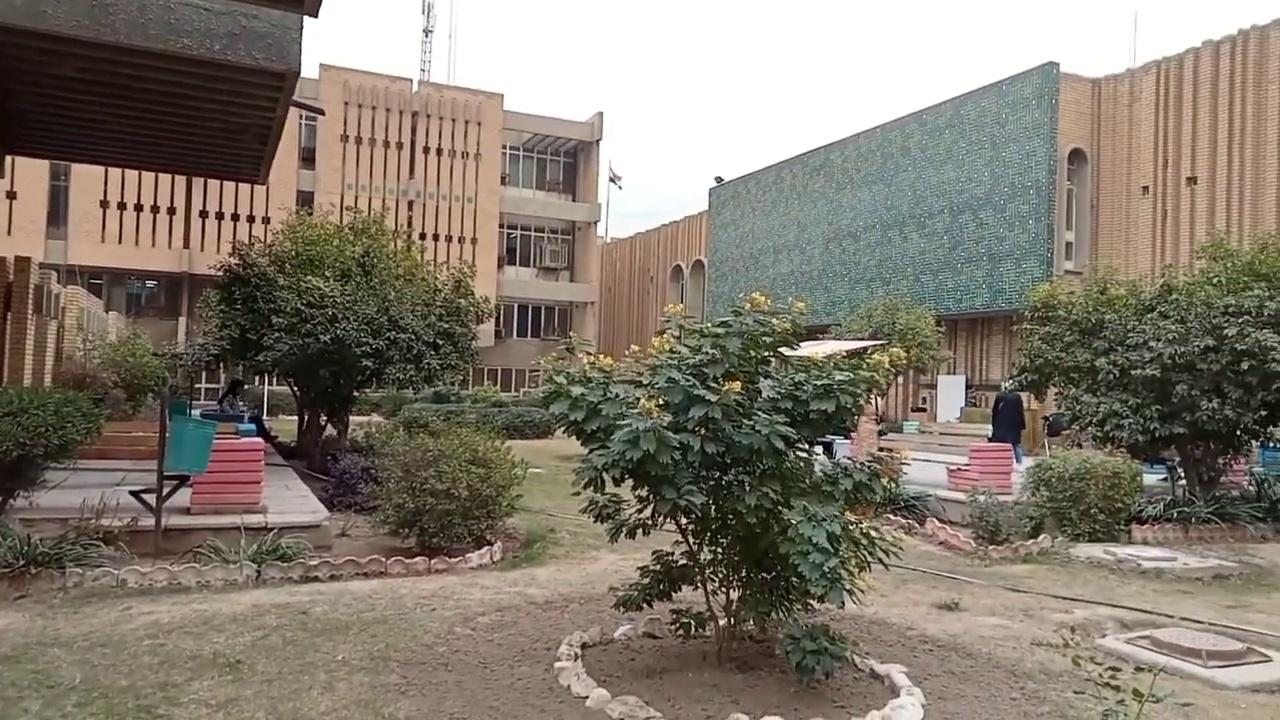person: (987, 379, 1026, 465), (215, 376, 246, 413)
tree: (530, 288, 942, 681), (176, 200, 499, 472), (1004, 227, 1279, 509), (365, 416, 528, 555), (829, 291, 953, 443), (0, 381, 105, 514), (1015, 446, 1144, 543), (68, 318, 172, 422)
